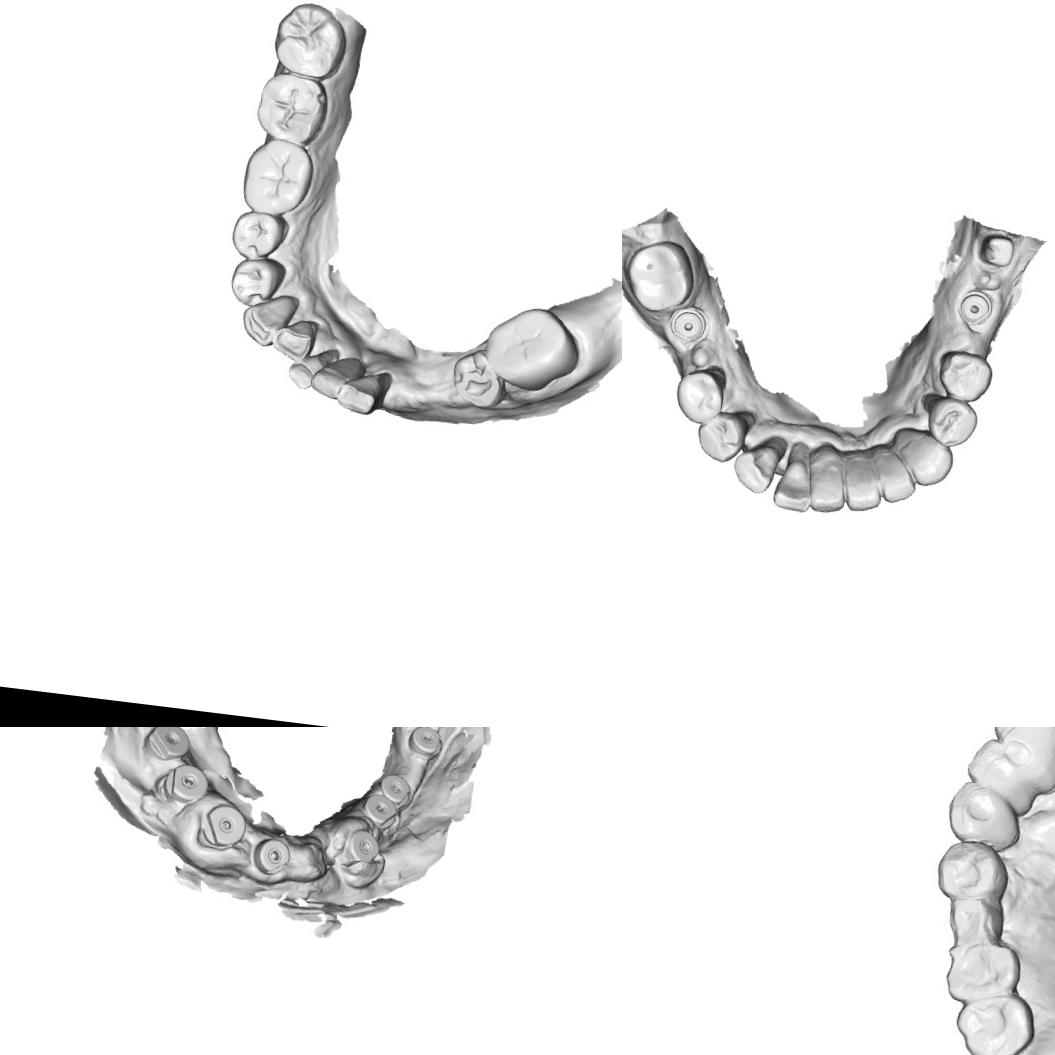abutment: (973, 230, 1018, 272)
canine: (941, 778, 1024, 852), (237, 288, 302, 352), (897, 426, 958, 490), (730, 440, 784, 497)
implant: (196, 799, 252, 853), (160, 761, 209, 807), (666, 304, 710, 346), (252, 833, 293, 878), (344, 824, 382, 870), (955, 287, 996, 328), (361, 790, 402, 830), (146, 727, 192, 761), (376, 771, 416, 810), (403, 727, 447, 761)
incisor: (964, 732, 1036, 810), (987, 727, 1055, 789), (306, 346, 365, 407), (332, 364, 394, 420), (837, 454, 886, 516), (868, 448, 920, 506), (804, 454, 850, 516), (770, 456, 815, 514), (284, 345, 334, 395), (272, 317, 318, 362)
molar: (478, 300, 586, 398), (622, 234, 701, 318), (270, 3, 348, 83), (254, 69, 330, 142), (940, 941, 1024, 1007), (948, 993, 1034, 1055), (242, 142, 312, 212)
premolar: (933, 835, 1011, 901), (670, 364, 736, 428), (448, 346, 510, 414), (934, 347, 996, 405), (945, 892, 1007, 950), (693, 408, 750, 466), (228, 207, 287, 263), (225, 257, 285, 312), (924, 396, 980, 450)
